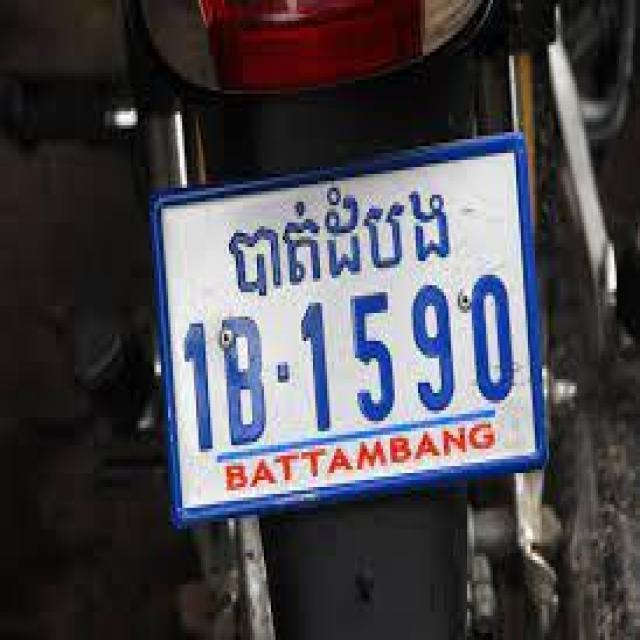Battambang: (230, 176, 454, 298)
